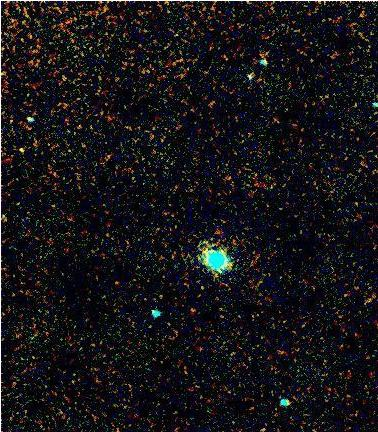star: (187, 231, 217, 261)
